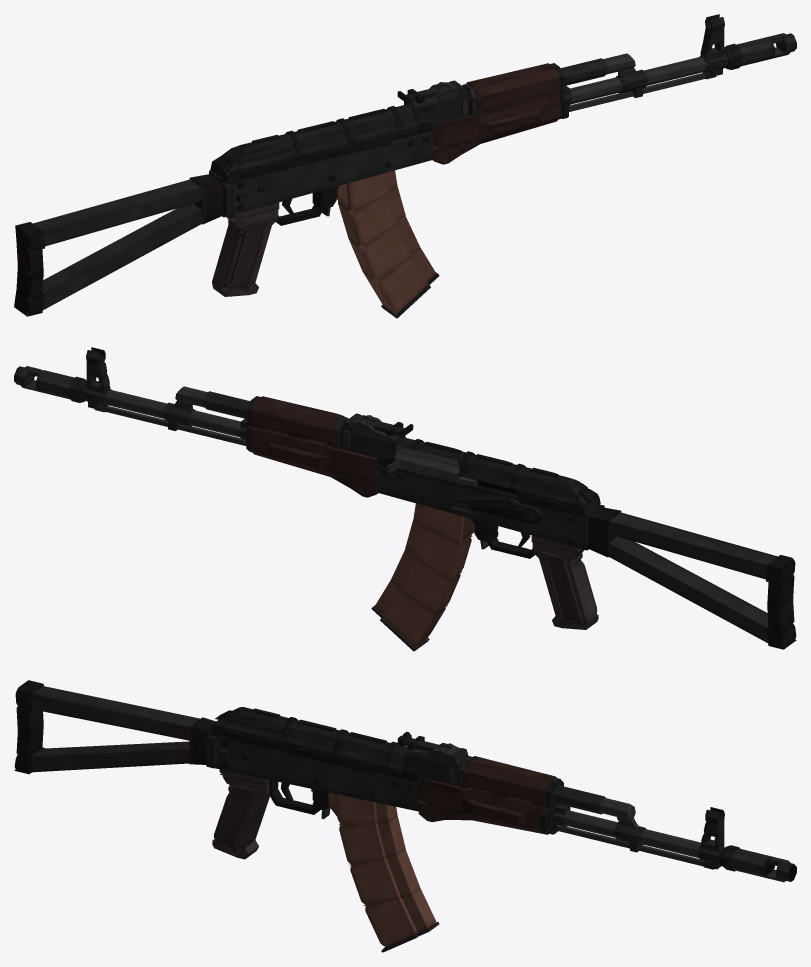
Rendered from aks74.obj.
The picture shows the model from 3 angles, top to bottom: view 1: azimuth 30°, elevation 25°; view 2: azimuth 150°, elevation 25°; view 3: azimuth 330°, elevation 25°; orthographic projection.
Visible parts, largest first — view 1: gunModel0, gunModel172, gunModel171, ammoModel7, ammoModel1, ammoModel9, gunModel11, gunModel50, gunModel133, gunModel3, gunModel9, ammoModel0 (+16 smaller); view 2: gunModel0, gunModel172, gunModel171, ammoModel7, ammoModel1, ammoModel9, gunModel11, gunModel50, gunModel133, gunModel3, gunModel9, ammoModel0 (+14 smaller); view 3: gunModel0, gunModel171, gunModel172, ammoModel7, ammoModel9, gunModel11, ammoModel1, gunModel50, gunModel3, gunModel9, ammoModel0, gunModel82 (+21 smaller).
Boxes of the visible parts, box(x1,y1,x2,y2) form: gunModel0: box(209, 130, 433, 217); gunModel172: box(27, 204, 202, 309); gunModel171: box(25, 179, 202, 250); ammoModel7: box(349, 225, 412, 281); ammoModel1: box(338, 195, 396, 248); ammoModel9: box(363, 257, 428, 314); gunModel11: box(466, 63, 559, 98); gunModel50: box(231, 104, 413, 154); gunModel133: box(212, 225, 271, 290); gunModel3: box(433, 115, 478, 150); gunModel9: box(473, 78, 559, 111); ammoModel0: box(338, 172, 388, 212); gunModel0: box(377, 463, 599, 550); gunModel172: box(609, 537, 768, 642); gunModel171: box(609, 512, 777, 579); ammoModel7: box(398, 558, 460, 614); ammoModel1: box(414, 528, 471, 581); ammoModel9: box(382, 590, 445, 647); gunModel11: box(251, 396, 344, 431); gunModel50: box(397, 437, 579, 487); gunModel133: box(539, 558, 598, 623); gunModel3: box(332, 448, 377, 483); gunModel9: box(251, 411, 333, 444); ammoModel0: box(422, 505, 472, 545); gunModel0: box(212, 735, 421, 811); gunModel171: box(31, 686, 200, 740); gunModel172: box(30, 741, 189, 772); ammoModel7: box(350, 858, 401, 905); ammoModel9: box(365, 898, 417, 948); gunModel11: box(464, 756, 556, 791); ammoModel1: box(339, 824, 385, 865); gunModel50: box(231, 707, 408, 755); gunModel3: box(418, 778, 464, 813); gunModel9: box(463, 772, 546, 804); ammoModel0: box(335, 794, 377, 825); gunModel82: box(553, 810, 722, 855).
Size of the model in its own units: 30.35 by 8.14 by 1.9.
